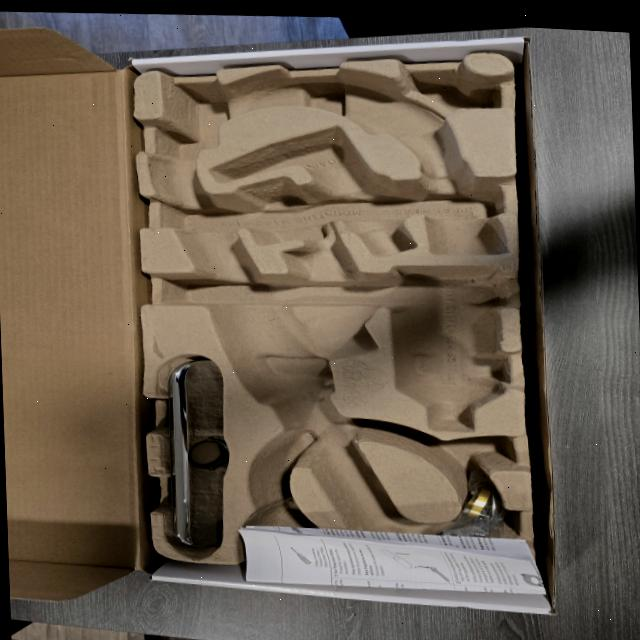1m: (154, 71, 505, 582)
2m: (206, 126, 414, 256)
3m: (393, 268, 501, 430)
4: (171, 358, 230, 547)
5m: (241, 505, 316, 554)
6o: (430, 477, 498, 545)
7m: (402, 431, 514, 479)
8: (238, 527, 547, 594)
